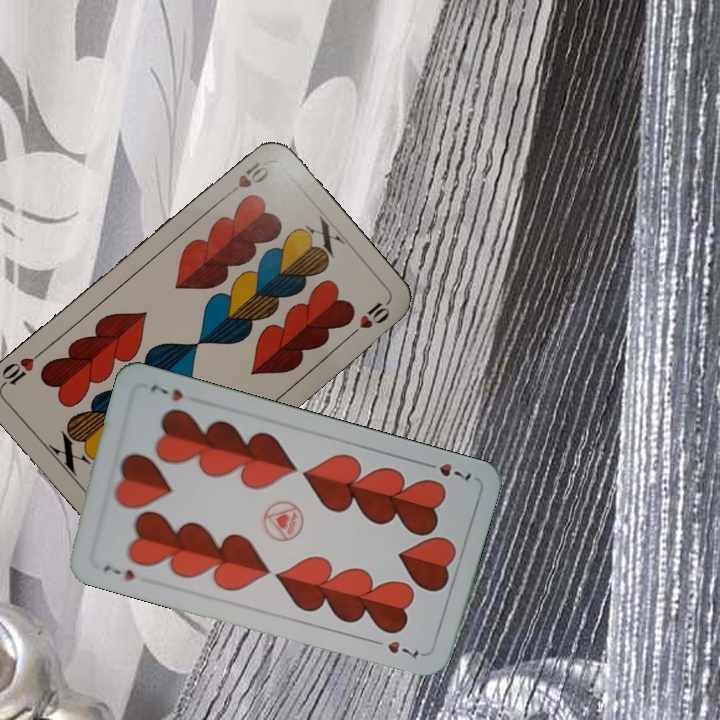H10: (220, 157, 272, 200)
H7: (418, 458, 474, 484), (99, 561, 137, 584)
